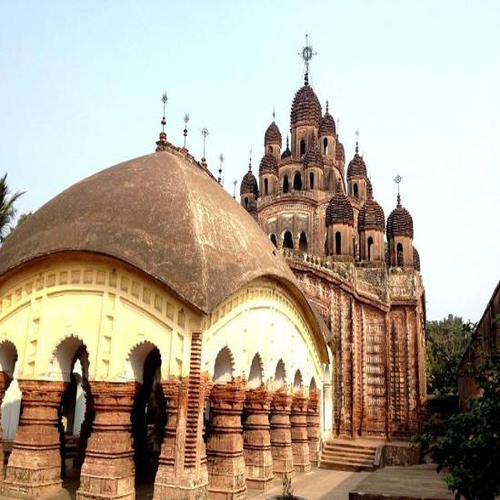Temple: (10, 118, 343, 483), (226, 78, 444, 436)
